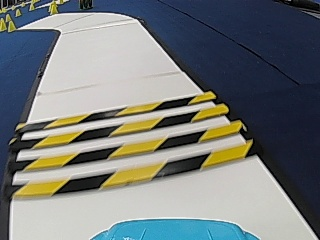bump: (29, 98, 203, 192)
